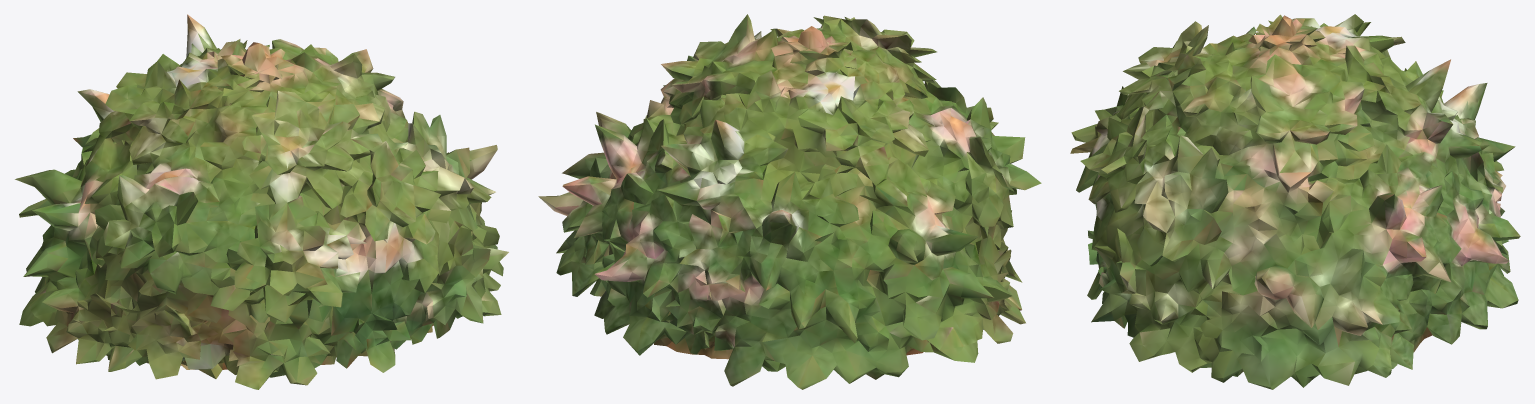
Rendered from arbusto_flores.glb.
3 views of the same model, side by side, from view 1: azimuth 30°, elevation 25°; view 2: azimuth 150°, elevation 25°; view 3: azimuth 270°, elevation 25° (orthographic).
Visible parts, largest first — view 1: arbusto_flores_malla; view 2: arbusto_flores_malla; view 3: arbusto_flores_malla.
Part boxes in pixels (bbox=[...]): arbusto_flores_malla: bbox=[15, 14, 508, 389]; arbusto_flores_malla: bbox=[538, 14, 1041, 389]; arbusto_flores_malla: bbox=[1070, 14, 1520, 389].
Size of the model in its own units: 0.2809 by 0.1635 by 0.2454.
1 material, 1 textured.
